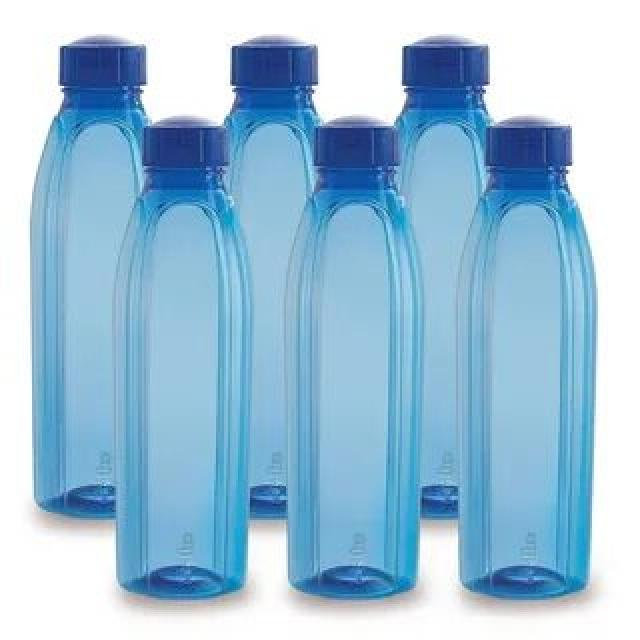blue: (117, 165, 248, 598), (457, 174, 588, 598), (288, 177, 415, 593)
